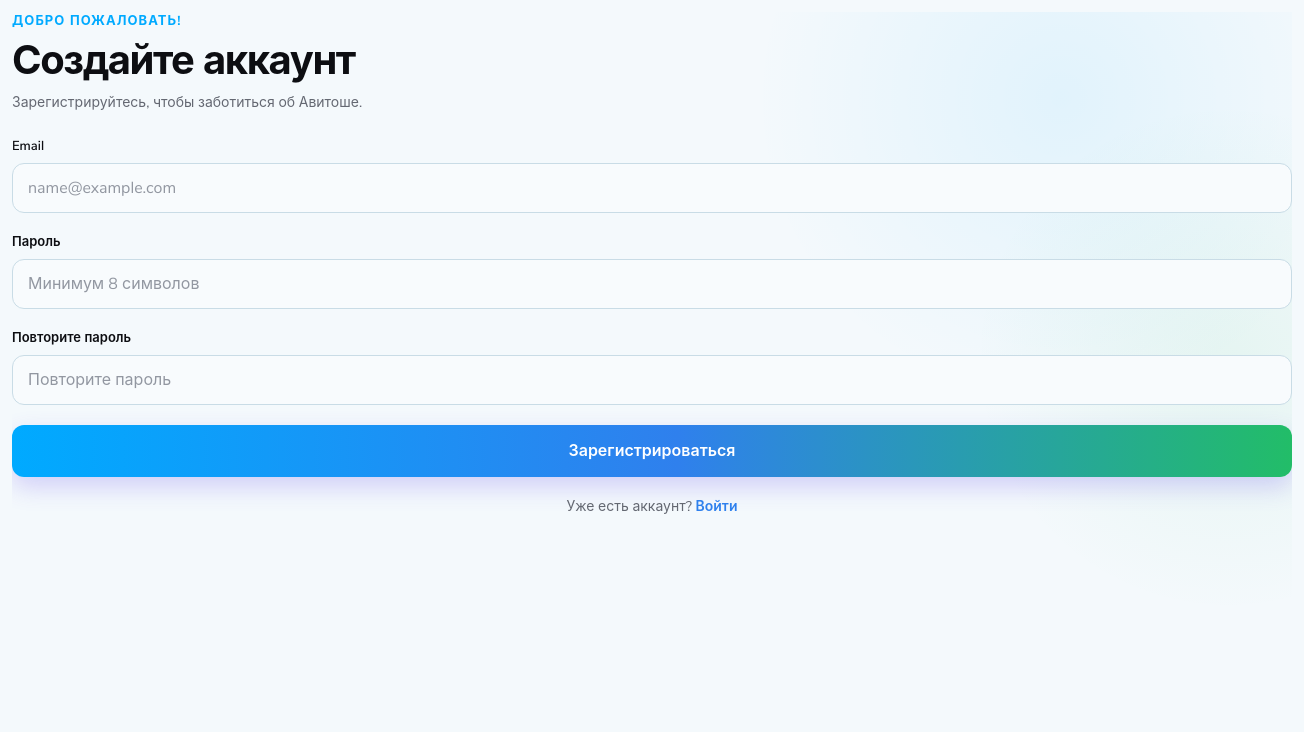
Test case: RegisterForm › shows an email field error returned by backend
The image size is (1304, 732).
Type "user@example.com" into the field labelled "Email" at (652, 188), box x1=12 y1=163 x2=1292 y2=213
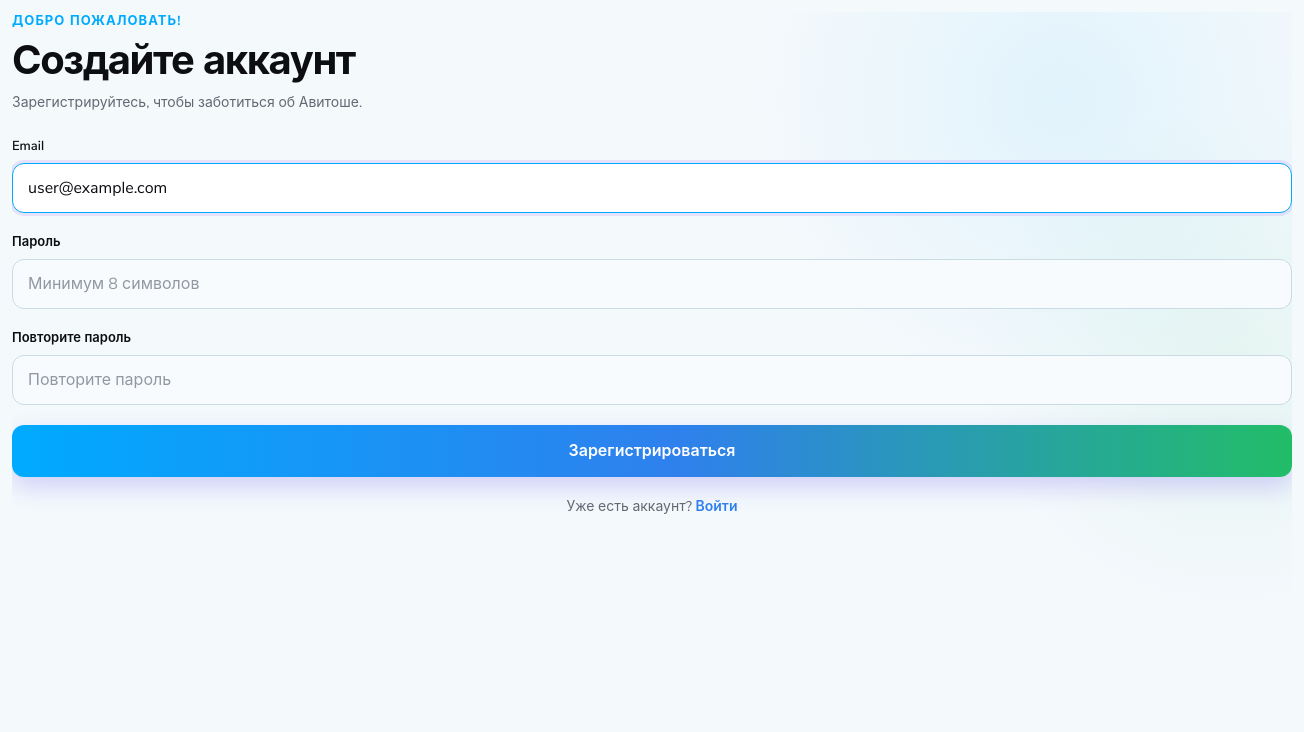
Type "password123" into the password field labelled "Пароль" at (652, 284), box x1=12 y1=259 x2=1292 y2=309
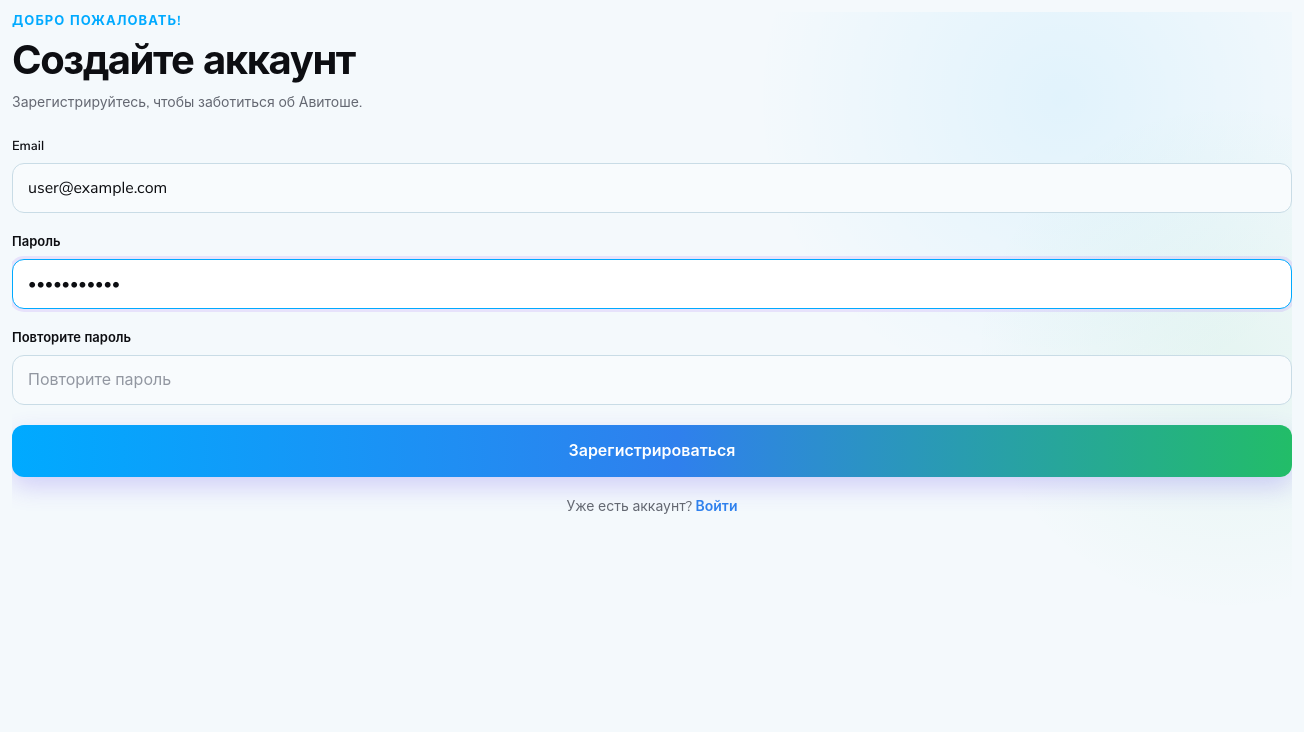
Type "password123" into the password field labelled "Повторите пароль" at (652, 380), box x1=12 y1=355 x2=1292 y2=405
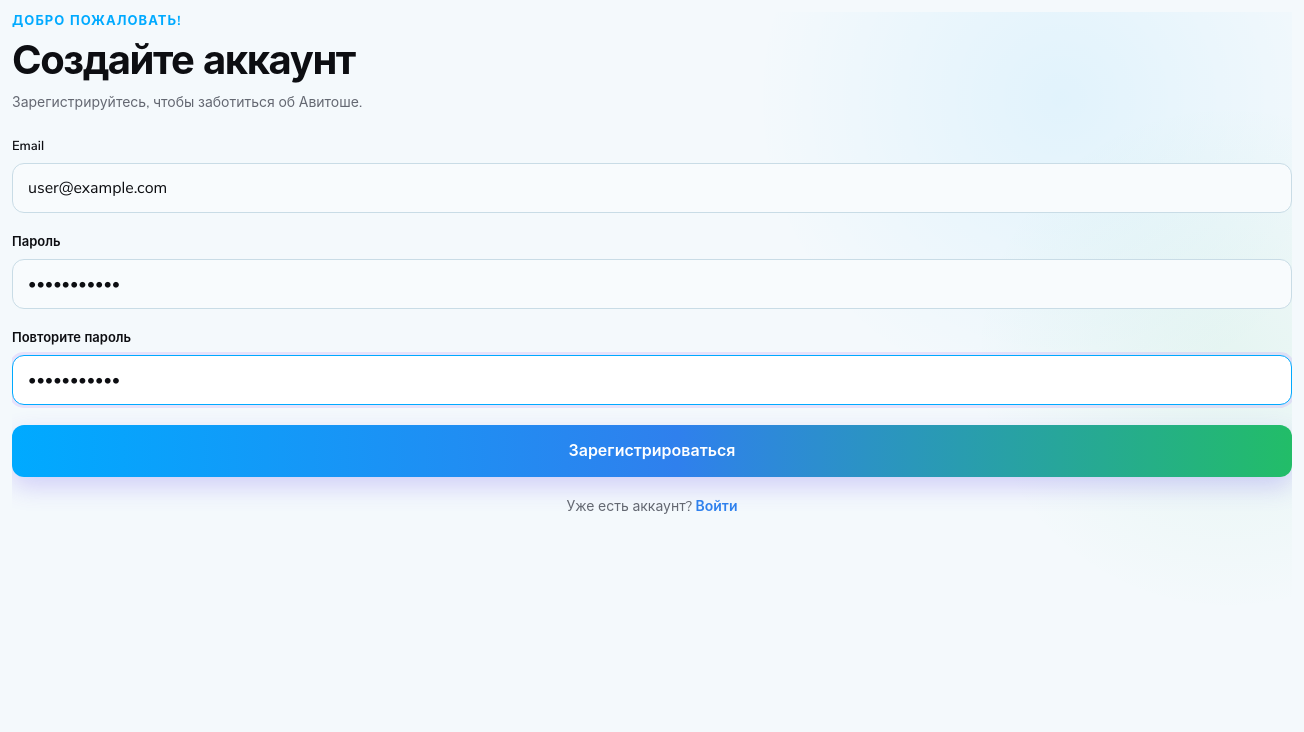
Click the button "Зарегистрироваться" at (652, 451), box x1=12 y1=425 x2=1292 y2=477
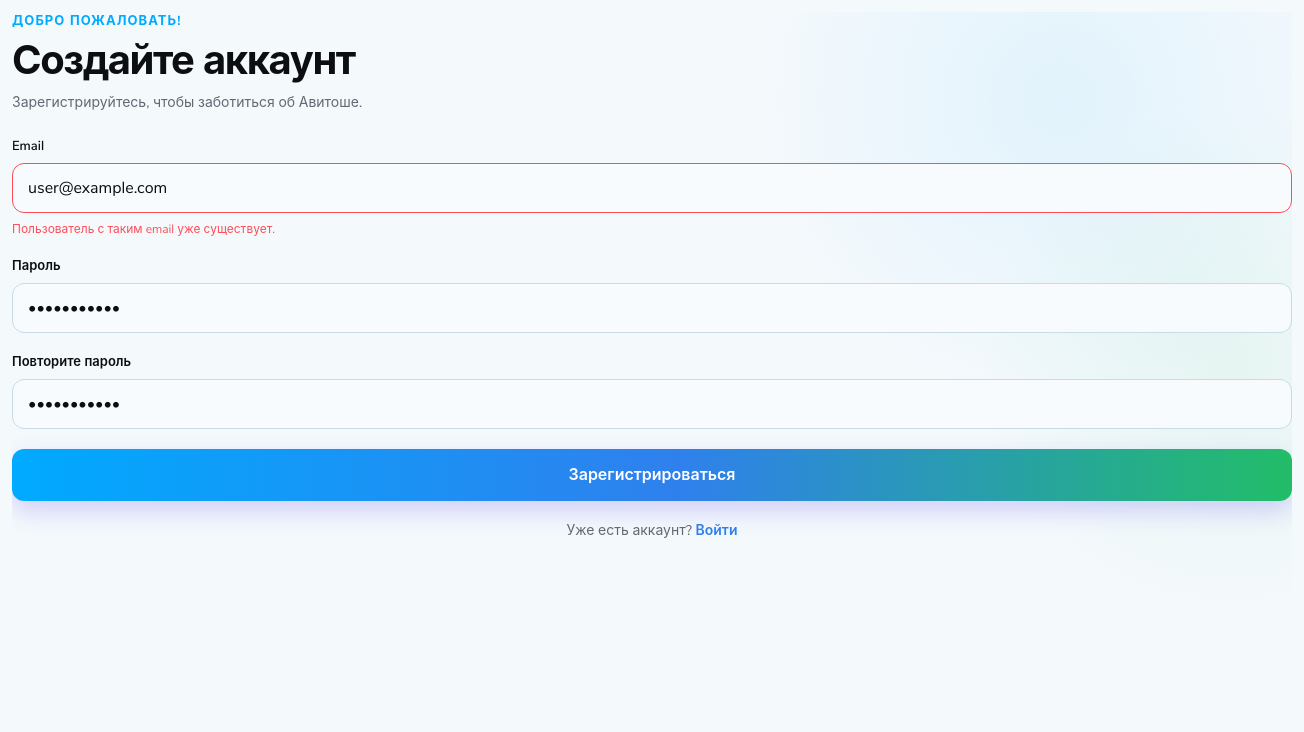
Check: the text "Пользователь с таким email уже существует." is shown, box x1=12 y1=221 x2=275 y2=237
